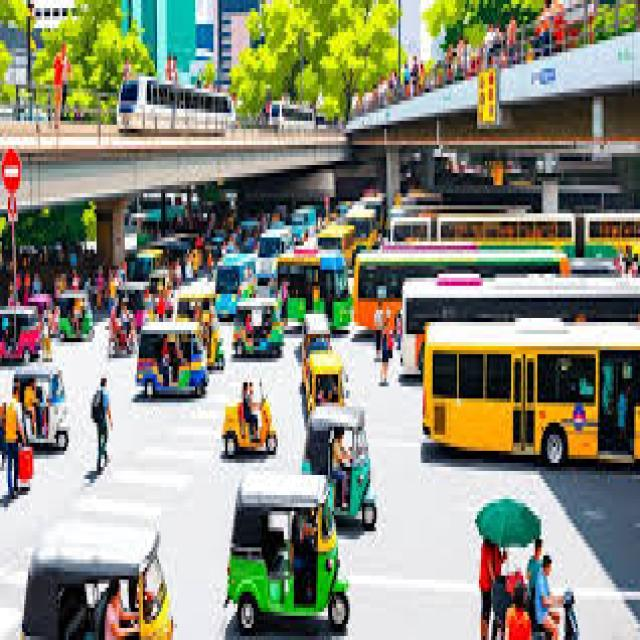bus: (416, 315, 640, 456), (346, 246, 396, 337)
matatu: (212, 242, 234, 327), (257, 227, 281, 279)
tuktuk: (230, 457, 354, 637), (23, 512, 185, 640), (476, 472, 598, 640), (12, 359, 74, 457), (137, 315, 206, 401), (223, 369, 278, 447), (302, 346, 364, 404), (231, 290, 289, 351), (311, 411, 368, 449)
